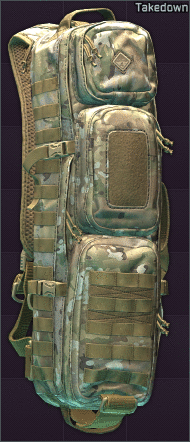Hazard 4 Takedown sling backpack: (0, 0, 190, 442)
